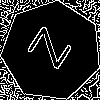Z: (26, 26, 82, 76)
